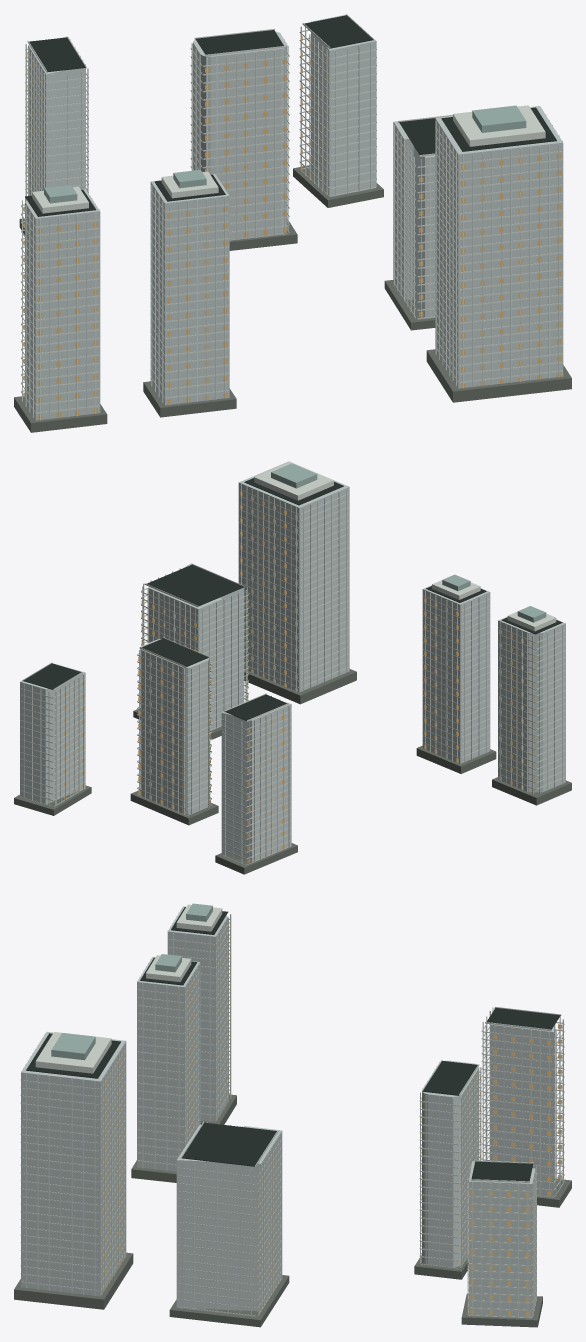
File: haide-office-wall.glb
The picture shows the model from 3 angles, top to bottom: view 1: azimuth 30°, elevation 25°; view 2: azimuth 150°, elevation 25°; view 3: azimuth 270°, elevation 25°; orthographic projection. The views are drawn at different scales.
Parts seen in each view (by area): view 1: envelope, fins, floor_bands, podium, roof_deck, night_windows, crown_step, crown_screen, parapet; view 2: envelope, fins, floor_bands, podium, roof_deck, night_windows, crown_step, crown_screen, parapet; view 3: envelope, fins, floor_bands, roof_deck, podium, night_windows, crown_step, crown_screen, parapet.
Part boxes in pixels (bbox=[...]): envelope: bbox=[25, 14, 563, 420]; fins: bbox=[22, 23, 562, 420]; floor_bands: bbox=[21, 29, 562, 413]; podium: bbox=[14, 165, 571, 432]; roof_deck: bbox=[25, 15, 556, 216]; night_windows: bbox=[23, 36, 560, 419]; crown_step: bbox=[32, 105, 545, 213]; crown_screen: bbox=[44, 105, 526, 203]; parapet: bbox=[27, 14, 452, 156]; envelope: bbox=[20, 461, 565, 862]; fins: bbox=[23, 484, 562, 864]; floor_bands: bbox=[20, 489, 565, 864]; podium: bbox=[14, 669, 571, 874]; roof_deck: bbox=[23, 478, 562, 720]; night_windows: bbox=[55, 491, 534, 863]; crown_step: bbox=[254, 462, 556, 631]; crown_screen: bbox=[271, 463, 546, 622]; parapet: bbox=[22, 564, 288, 721]; envelope: bbox=[21, 906, 555, 1317]; fins: bbox=[21, 908, 563, 1318]; floor_bands: bbox=[20, 918, 564, 1318]; roof_deck: bbox=[26, 907, 560, 1181]; podium: bbox=[14, 1094, 571, 1327]; night_windows: bbox=[101, 924, 562, 1316]; crown_step: bbox=[35, 904, 222, 1073]; crown_screen: bbox=[51, 903, 212, 1060]; parapet: bbox=[180, 1006, 561, 1182].
Size of the model in its own units: 411 by 199 by 422.
